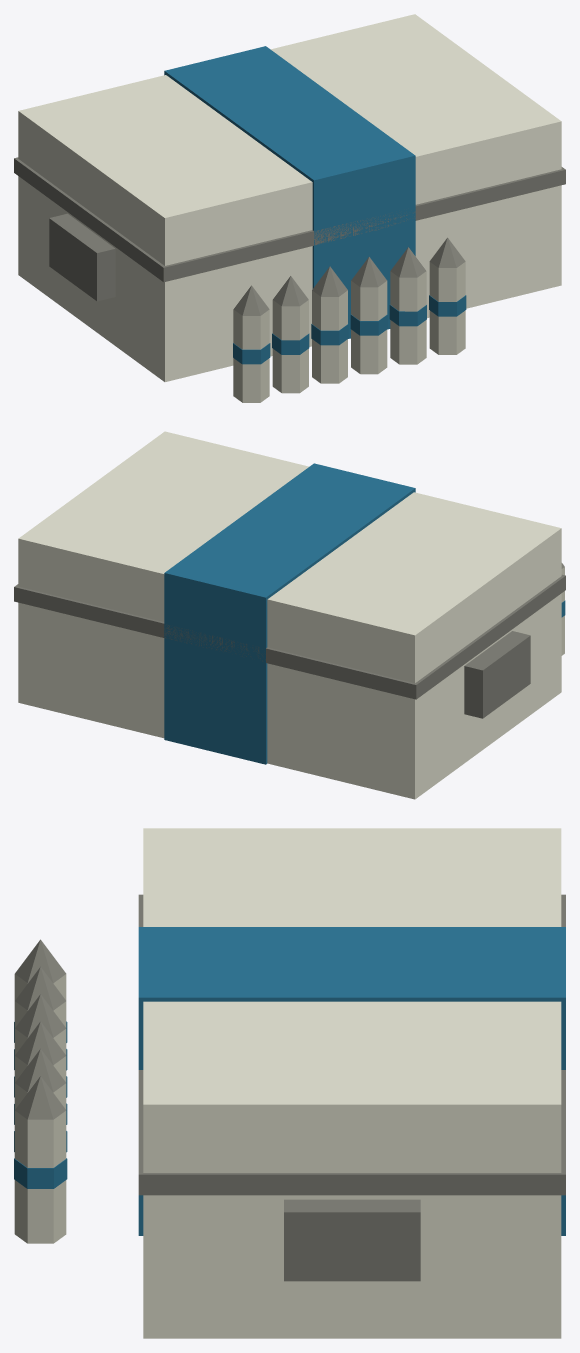
The model's file is ce_ammo_chcells_ion_c.obj.
3 views of the same model, one above another, from view 1: azimuth 30°, elevation 25°; view 2: azimuth 150°, elevation 25°; view 3: azimuth 270°, elevation 25° (orthographic). The views are drawn at different scales.
Visible parts, largest first — view 1: ce_ammo_chcells_ion_c_0, ce_ammo_chcells_ion_c_1, ce_ammo_chcells_ion_c_2, ce_ammo_chcells_ion_c_3, ce_ammo_chcells_ion_c_14, ce_ammo_chcells_ion_c_8, ce_ammo_chcells_ion_c_17, ce_ammo_chcells_ion_c_5, ce_ammo_chcells_ion_c_20, ce_ammo_chcells_ion_c_11, ce_ammo_chcells_ion_c_16, ce_ammo_chcells_ion_c_10 (+10 smaller); view 2: ce_ammo_chcells_ion_c_0, ce_ammo_chcells_ion_c_1, ce_ammo_chcells_ion_c_2, ce_ammo_chcells_ion_c_3; view 3: ce_ammo_chcells_ion_c_0, ce_ammo_chcells_ion_c_1, ce_ammo_chcells_ion_c_4, ce_ammo_chcells_ion_c_2, ce_ammo_chcells_ion_c_20, ce_ammo_chcells_ion_c_22, ce_ammo_chcells_ion_c_21, ce_ammo_chcells_ion_c_7, ce_ammo_chcells_ion_c_10, ce_ammo_chcells_ion_c_16, ce_ammo_chcells_ion_c_13, ce_ammo_chcells_ion_c_19.
Part boxes in pixels (<box>): ce_ammo_chcells_ion_c_0: <box>18,14,561,381</box>; ce_ammo_chcells_ion_c_1: <box>164,46,415,338</box>; ce_ammo_chcells_ion_c_2: <box>14,157,565,282</box>; ce_ammo_chcells_ion_c_3: <box>49,213,115,301</box>; ce_ammo_chcells_ion_c_14: <box>351,281,387,374</box>; ce_ammo_chcells_ion_c_8: <box>272,300,308,393</box>; ce_ammo_chcells_ion_c_17: <box>390,271,426,364</box>; ce_ammo_chcells_ion_c_5: <box>233,309,269,402</box>; ce_ammo_chcells_ion_c_20: <box>429,262,465,354</box>; ce_ammo_chcells_ion_c_11: <box>312,290,347,383</box>; ce_ammo_chcells_ion_c_16: <box>351,257,386,287</box>; ce_ammo_chcells_ion_c_10: <box>273,276,308,306</box>; ce_ammo_chcells_ion_c_0: <box>18,431,561,799</box>; ce_ammo_chcells_ion_c_1: <box>164,463,415,764</box>; ce_ammo_chcells_ion_c_2: <box>14,574,565,699</box>; ce_ammo_chcells_ion_c_3: <box>464,631,530,718</box>; ce_ammo_chcells_ion_c_0: <box>143,828,561,1338</box>; ce_ammo_chcells_ion_c_1: <box>138,927,565,1235</box>; ce_ammo_chcells_ion_c_4: <box>284,1199,420,1281</box>; ce_ammo_chcells_ion_c_2: <box>138,894,565,1195</box>; ce_ammo_chcells_ion_c_20: <box>14,1110,66,1243</box>; ce_ammo_chcells_ion_c_22: <box>15,1076,66,1119</box>; ce_ammo_chcells_ion_c_21: <box>14,1158,67,1188</box>; ce_ammo_chcells_ion_c_7: <box>15,939,66,983</box>; ce_ammo_chcells_ion_c_10: <box>15,967,65,1010</box>; ce_ammo_chcells_ion_c_16: <box>15,1021,66,1065</box>; ce_ammo_chcells_ion_c_13: <box>15,994,66,1037</box>; ce_ammo_chcells_ion_c_19: <box>15,1049,65,1092</box>.
Bounding box in the file's own units: 0.94 × 0.346 × 0.726.
